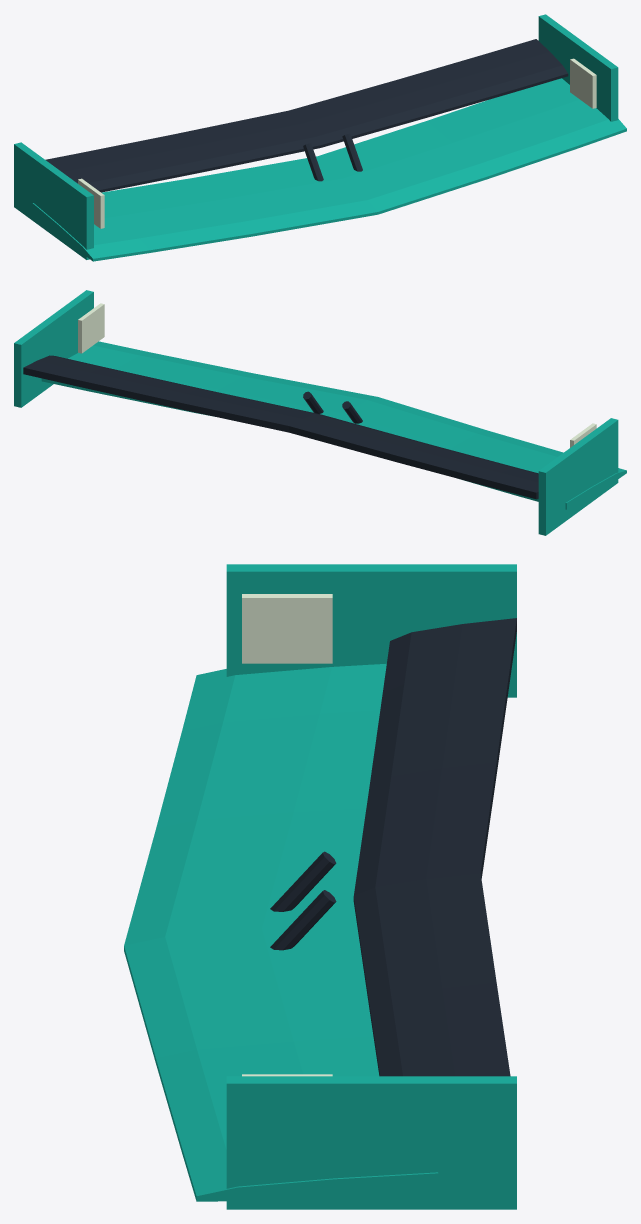
The model's file is delta.glb.
The picture shows the model from 3 angles, top to bottom: view 1: azimuth 30°, elevation 25°; view 2: azimuth 150°, elevation 25°; view 3: azimuth 270°, elevation 25°; orthographic projection. The views are drawn at different scales.
Parts seen in each view (by area): view 1: FrontWing; view 2: FrontWing; view 3: FrontWing.
Boxes of the visible parts, x1,y1,x2,y2 form: FrontWing: (14,14,626,261); FrontWing: (14,290,626,535); FrontWing: (124,564,516,1209).
Bounding box in the file's own units: 2.04 × 0.232 × 0.65.
